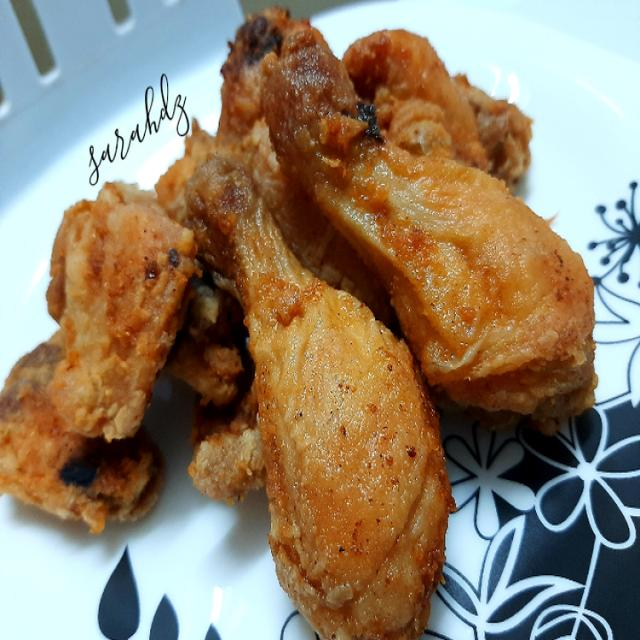Frango: (261, 25, 598, 410), (188, 160, 454, 635), (5, 188, 195, 527)
